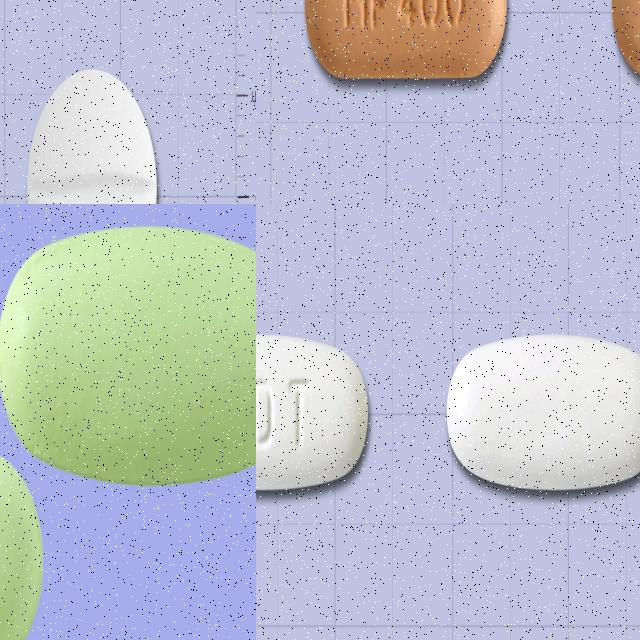Klaricid Film Coated: (0, 223, 256, 486)
Moroxacin: (304, 0, 507, 80)
Quinos Tab: (27, 67, 158, 204)
Seoul Cefixime Cap: (446, 332, 640, 491), (256, 333, 370, 492)
